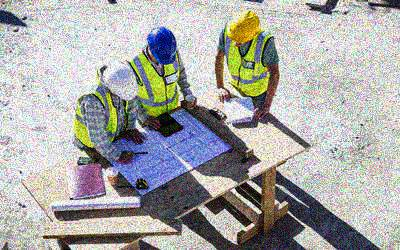helmet: (101, 60, 141, 103), (225, 10, 262, 48), (145, 25, 179, 66)
